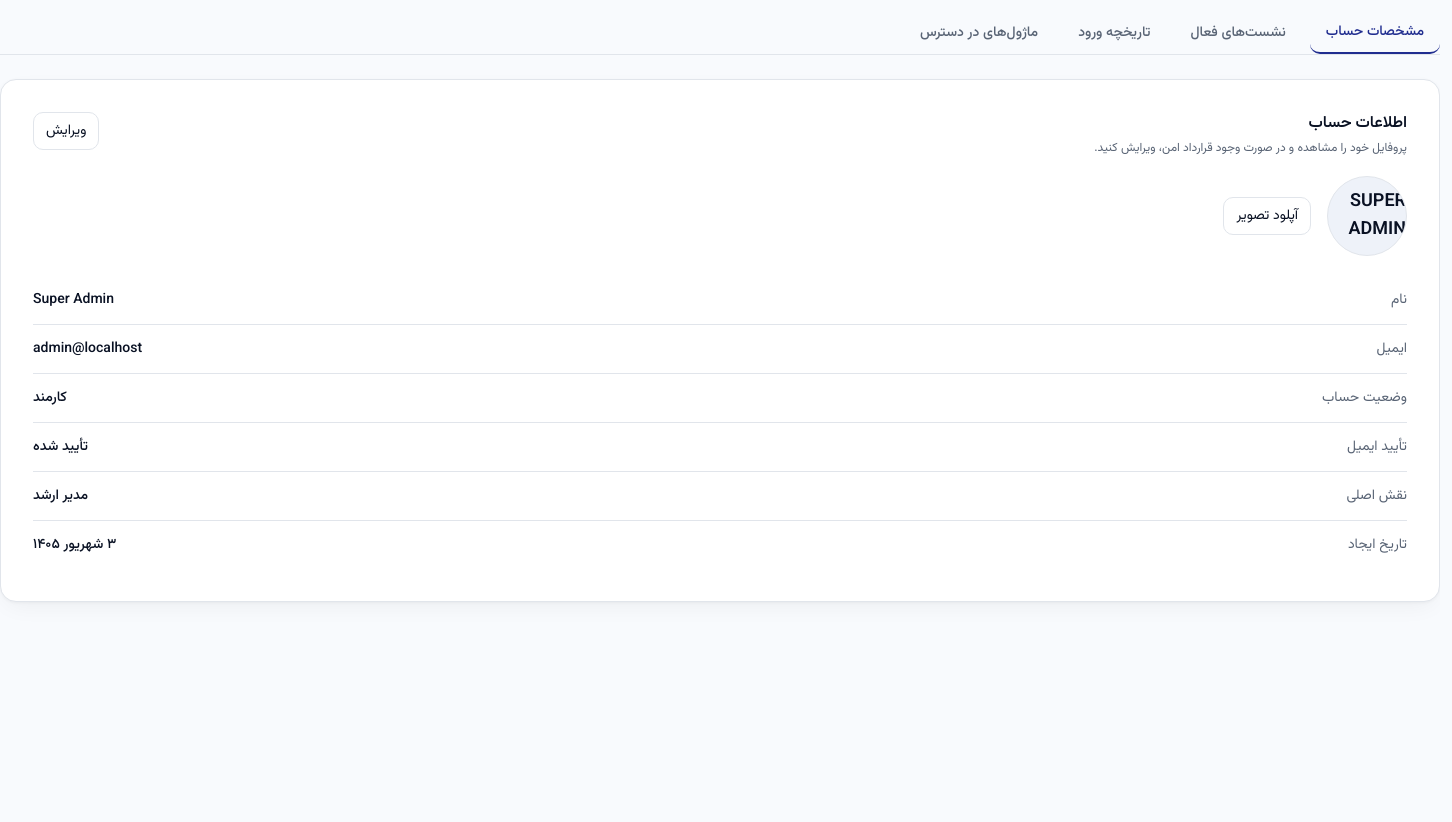
CoreProfileView account tabs › phase 49C-4: the modules tab › exists as a semantic tab wired to its panel
Click the tab "ماژول‌های در دسترس" at (979, 33), box [904, 12, 1054, 54]
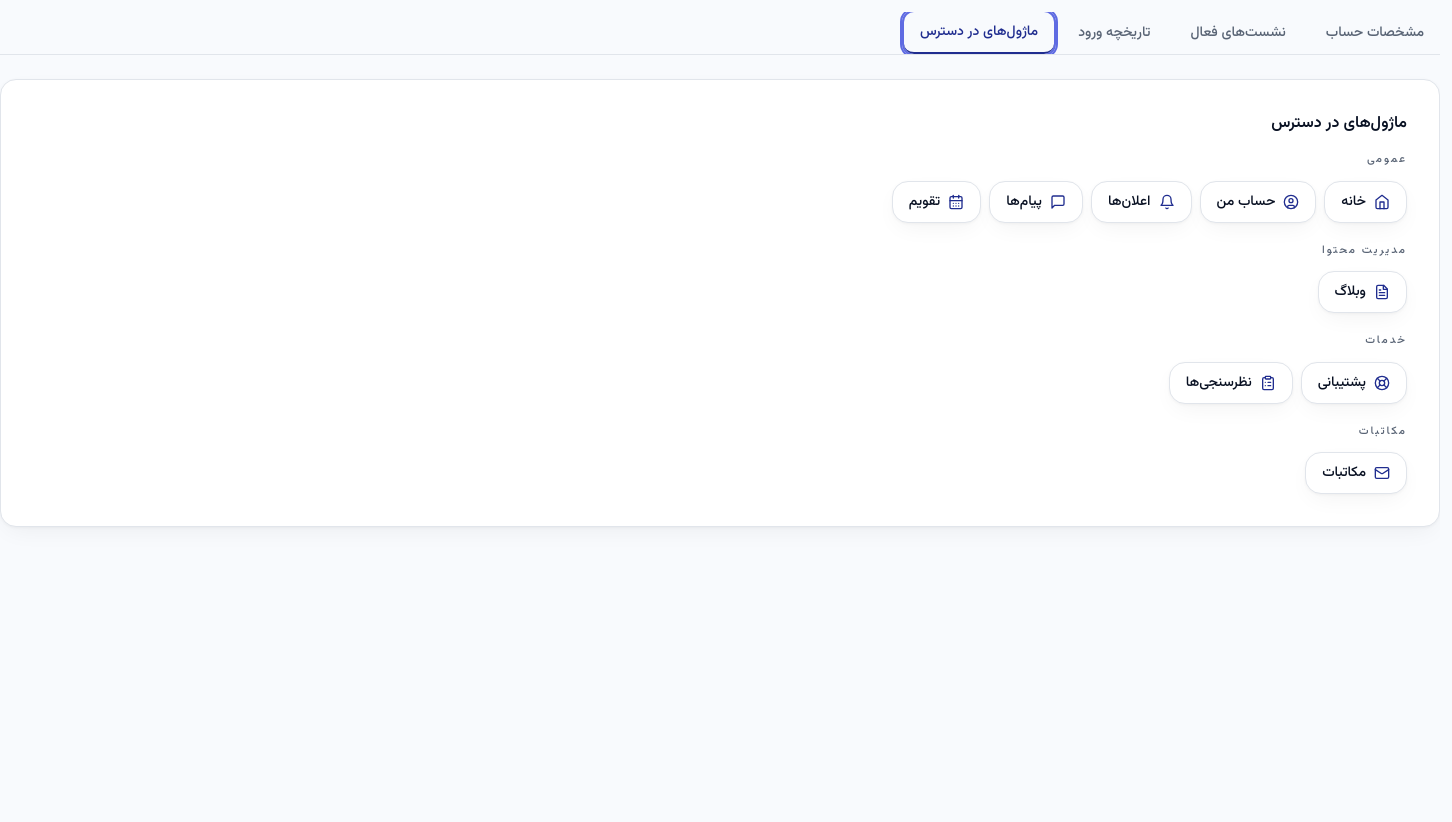
Now the element with test id "core-modules-list" is shown, box [892, 151, 1407, 494]
